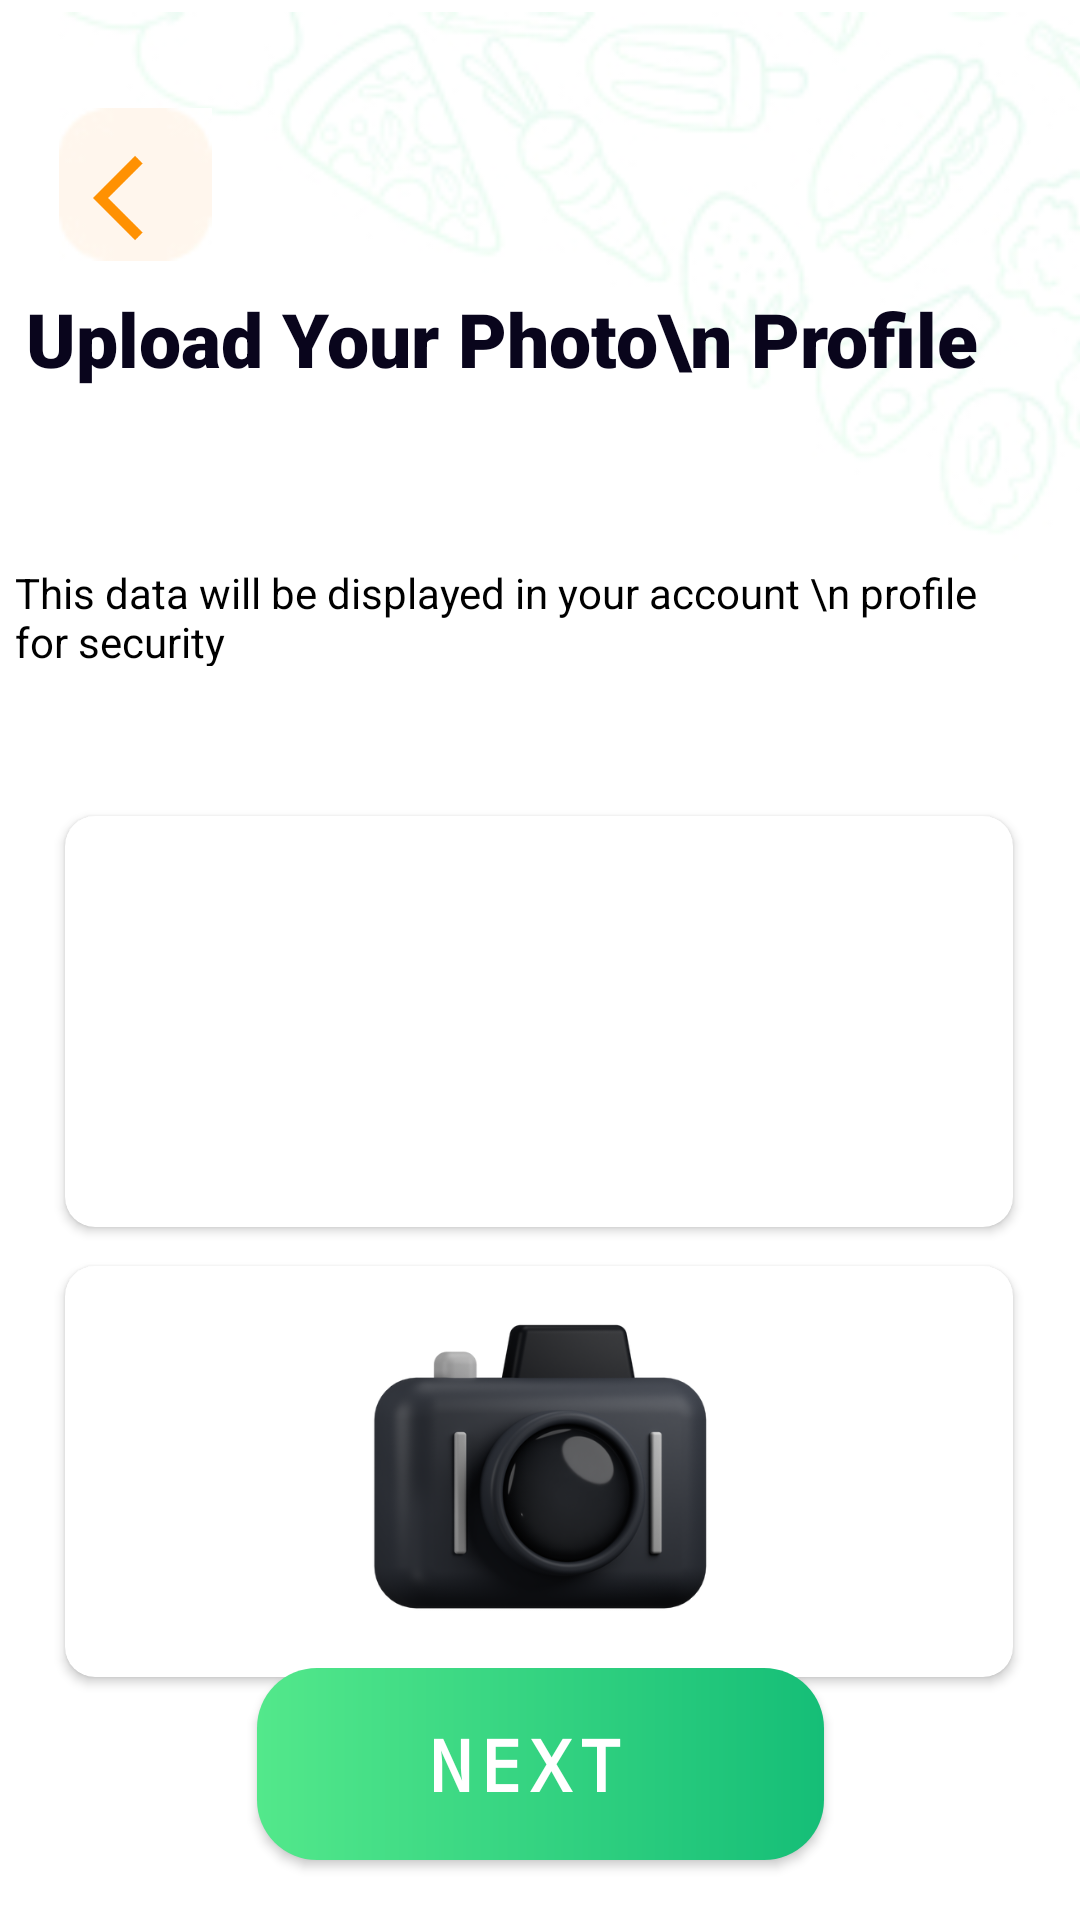

Screen size 1080 x 1920. Icon name, then its center in pixels as (x=x, y=y):
arrow back: (x=118, y=198)
camera: (x=540, y=1466)
